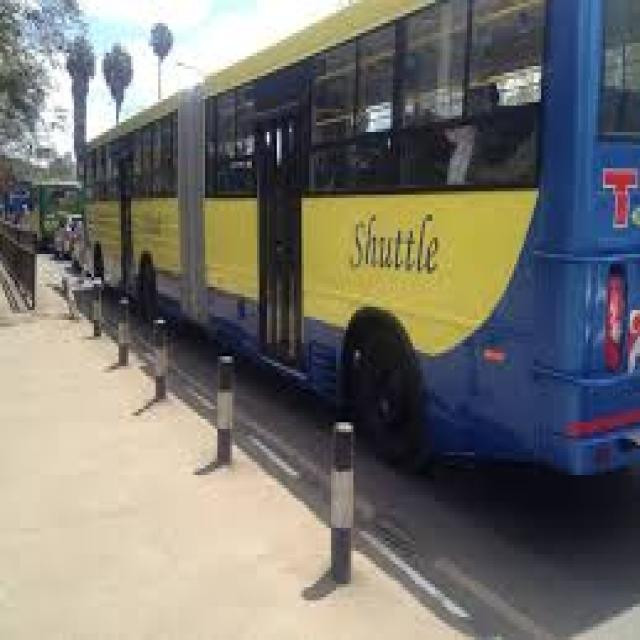bus: (61, 0, 637, 534)
